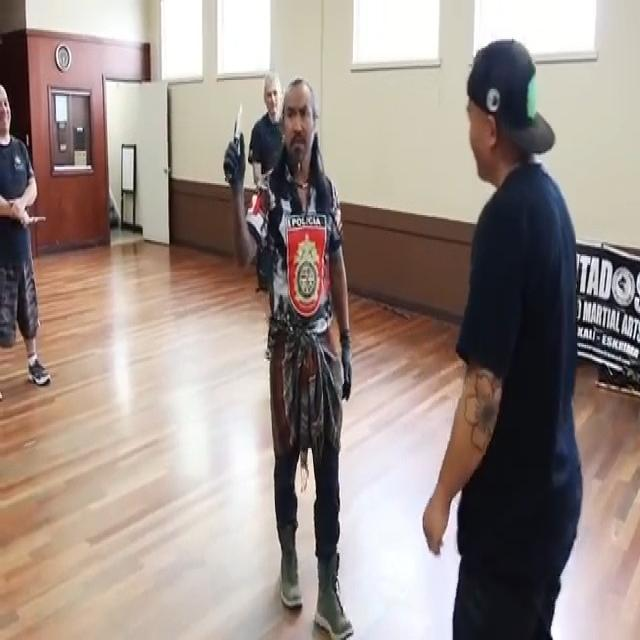Sharp-Object: (229, 103, 245, 180)
